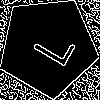L: (23, 22, 77, 69)
